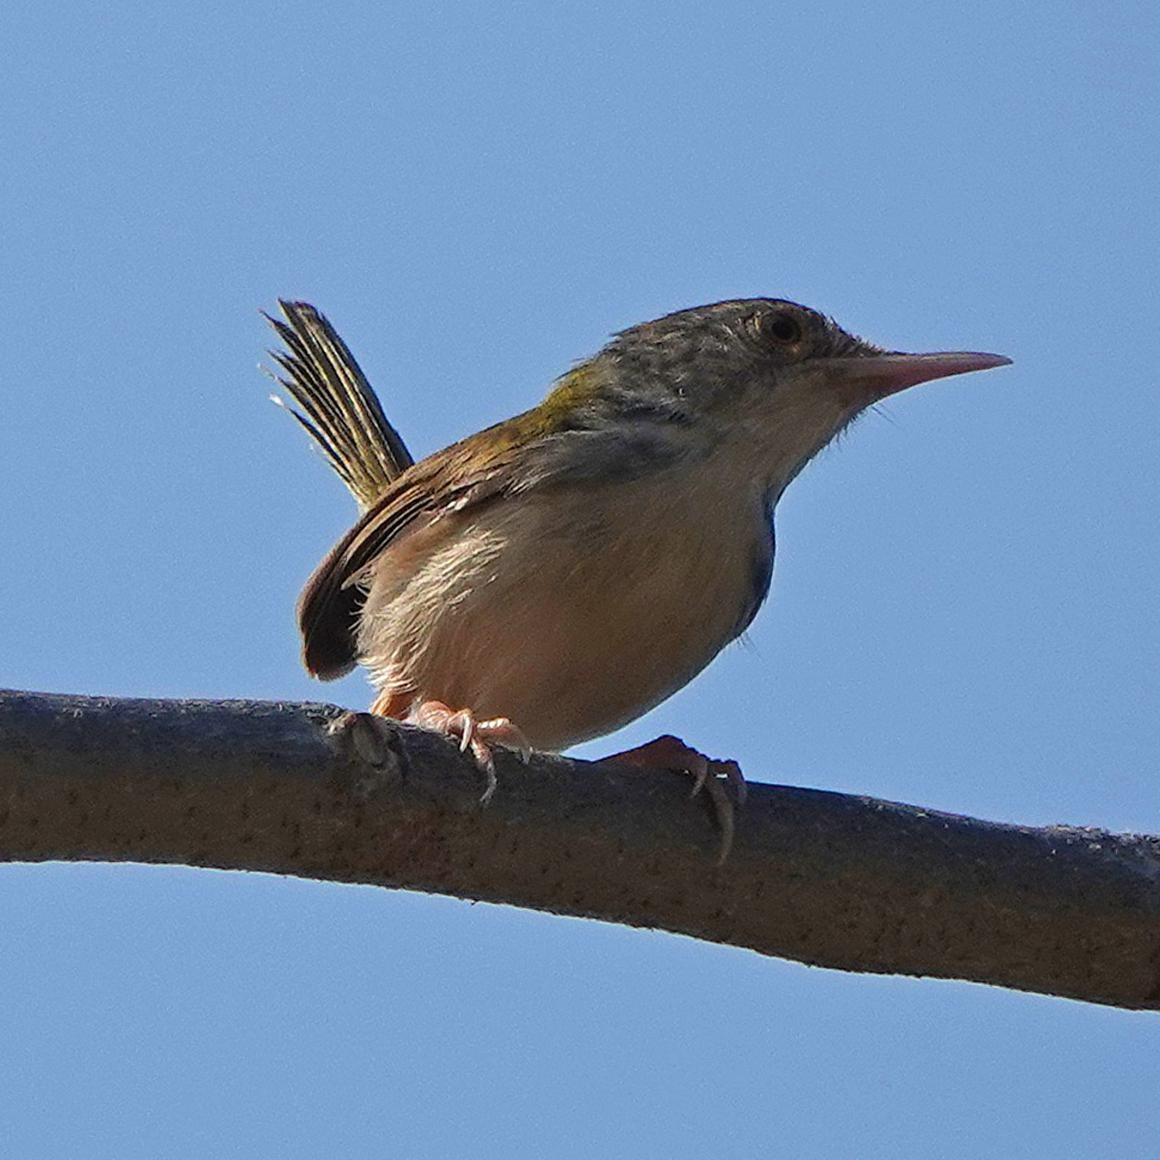tailorbird: (233, 279, 1041, 719)
